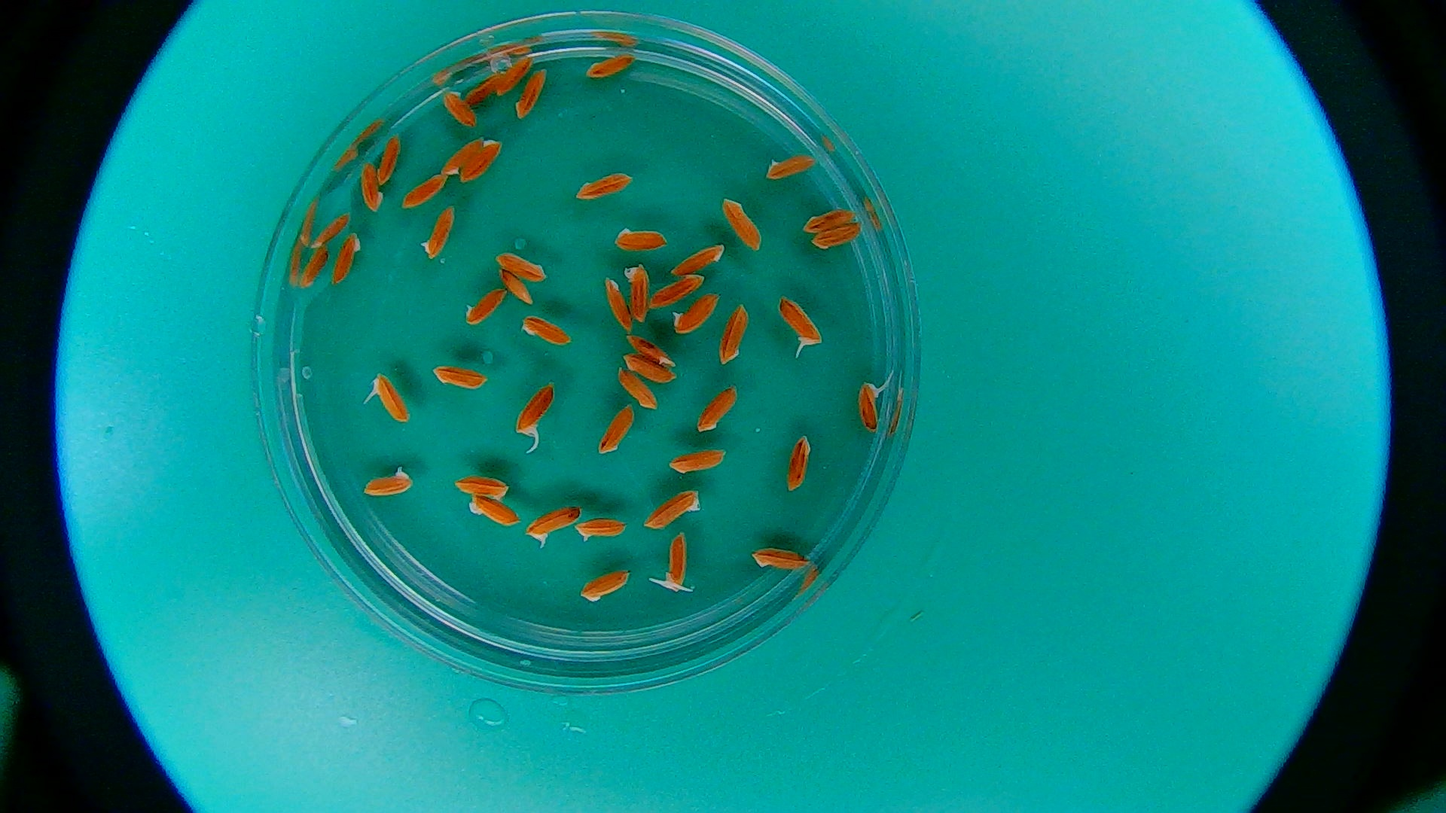no: (664, 291, 721, 337), (419, 204, 459, 260), (401, 167, 451, 211), (696, 382, 738, 434), (645, 489, 700, 528), (724, 196, 762, 248), (626, 329, 674, 370), (720, 303, 752, 364), (598, 404, 636, 454), (463, 285, 507, 328), (520, 313, 573, 348), (578, 568, 632, 602), (747, 542, 810, 571), (514, 70, 548, 121), (651, 273, 705, 305), (468, 495, 520, 528), (575, 172, 634, 201), (624, 263, 652, 324), (330, 233, 361, 288), (463, 140, 503, 182), (672, 243, 724, 275), (364, 467, 415, 499), (621, 352, 675, 382), (668, 449, 730, 475), (618, 368, 659, 407), (612, 224, 668, 252), (786, 435, 813, 492), (454, 473, 511, 499), (764, 154, 816, 182), (601, 277, 629, 328), (444, 136, 480, 175), (811, 225, 865, 251), (433, 364, 489, 389), (499, 250, 551, 276), (576, 517, 627, 542), (300, 248, 331, 289), (376, 134, 401, 184), (587, 52, 635, 78), (498, 56, 528, 97), (358, 163, 383, 212), (441, 90, 474, 126), (498, 271, 532, 305), (804, 208, 853, 231), (312, 215, 346, 245), (467, 74, 501, 104)
yes: (514, 381, 557, 437), (777, 297, 823, 349), (370, 373, 410, 424), (528, 506, 578, 544), (662, 532, 691, 593), (856, 382, 885, 433)
